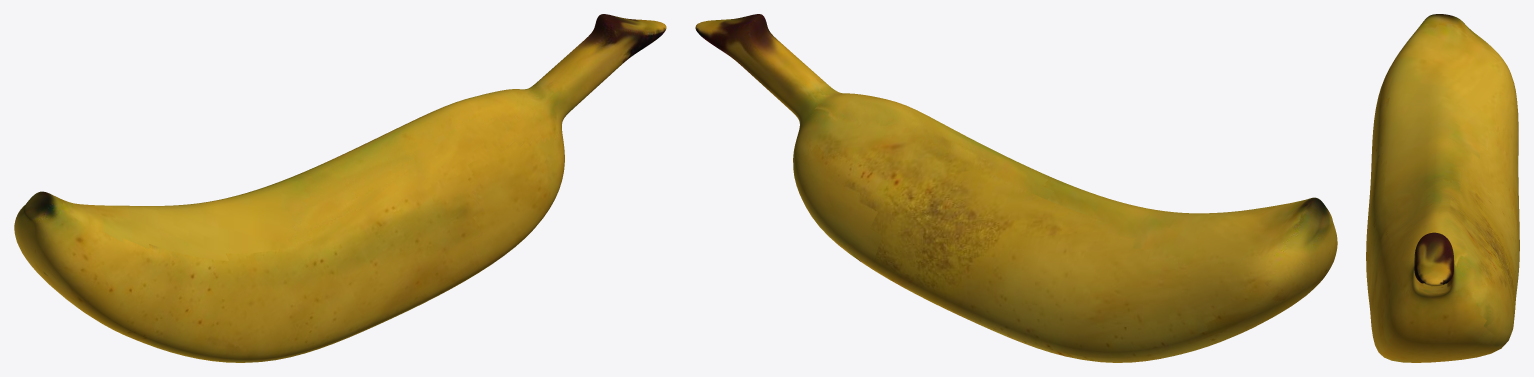
File: 02banana.fbx
3 renders of one model, left to right at view 1: azimuth 30°, elevation 25°; view 2: azimuth 150°, elevation 25°; view 3: azimuth 270°, elevation 25°, orthographic. The views are drawn at different scales.
Visible parts, largest first — view 1: 立方体; view 2: 立方体; view 3: 立方体.
Part boxes in pixels (x1,y1,x2,y2): 立方体: (14,14,666,362); 立方体: (695,14,1337,362); 立方体: (1366,14,1519,362).
Bounding box in the file's own units: 1313 × 480 × 284.
